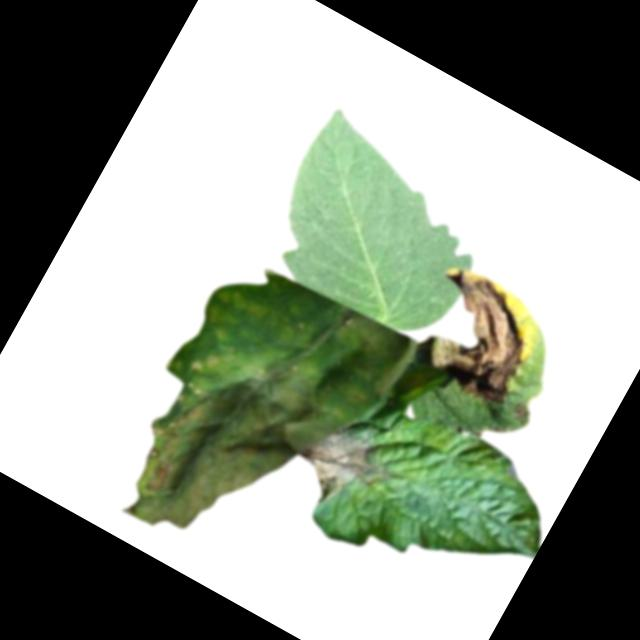Late_blight: (94, 245, 412, 594), (399, 259, 556, 413), (281, 411, 412, 536), (509, 400, 533, 426)
healthy: (249, 105, 509, 353)
